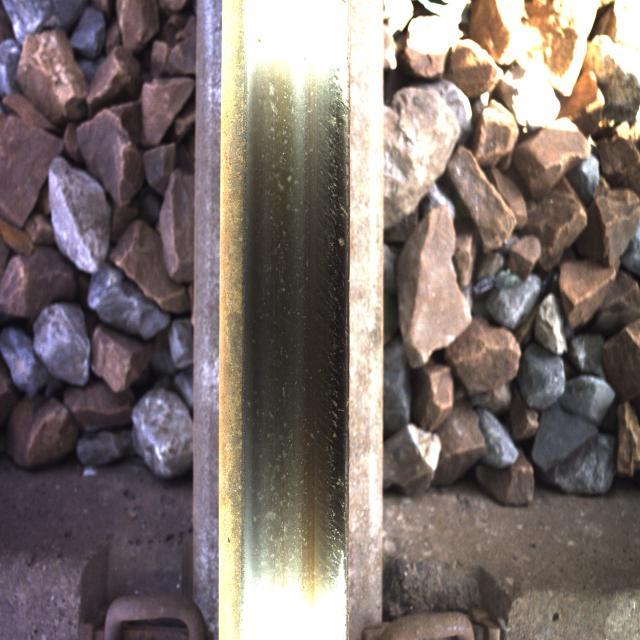normal: (235, 16, 345, 640)
